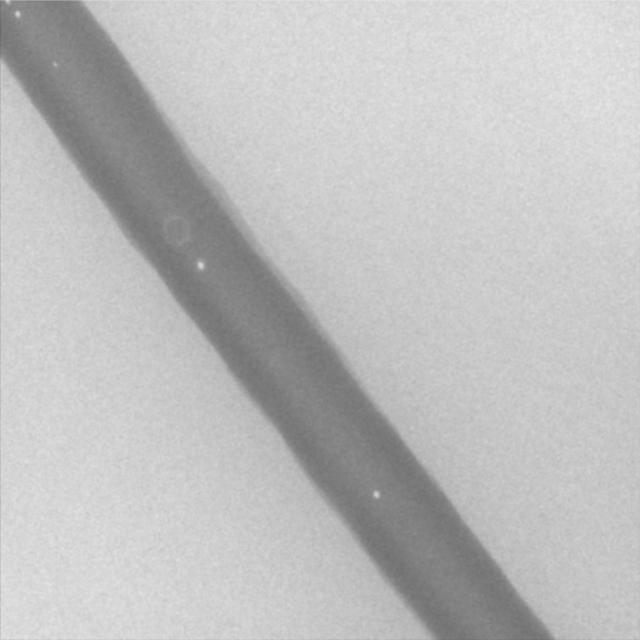air hole: (370, 488, 380, 501), (195, 259, 205, 272), (13, 9, 23, 21), (51, 59, 59, 70)
hollow bead: (160, 212, 192, 248)
